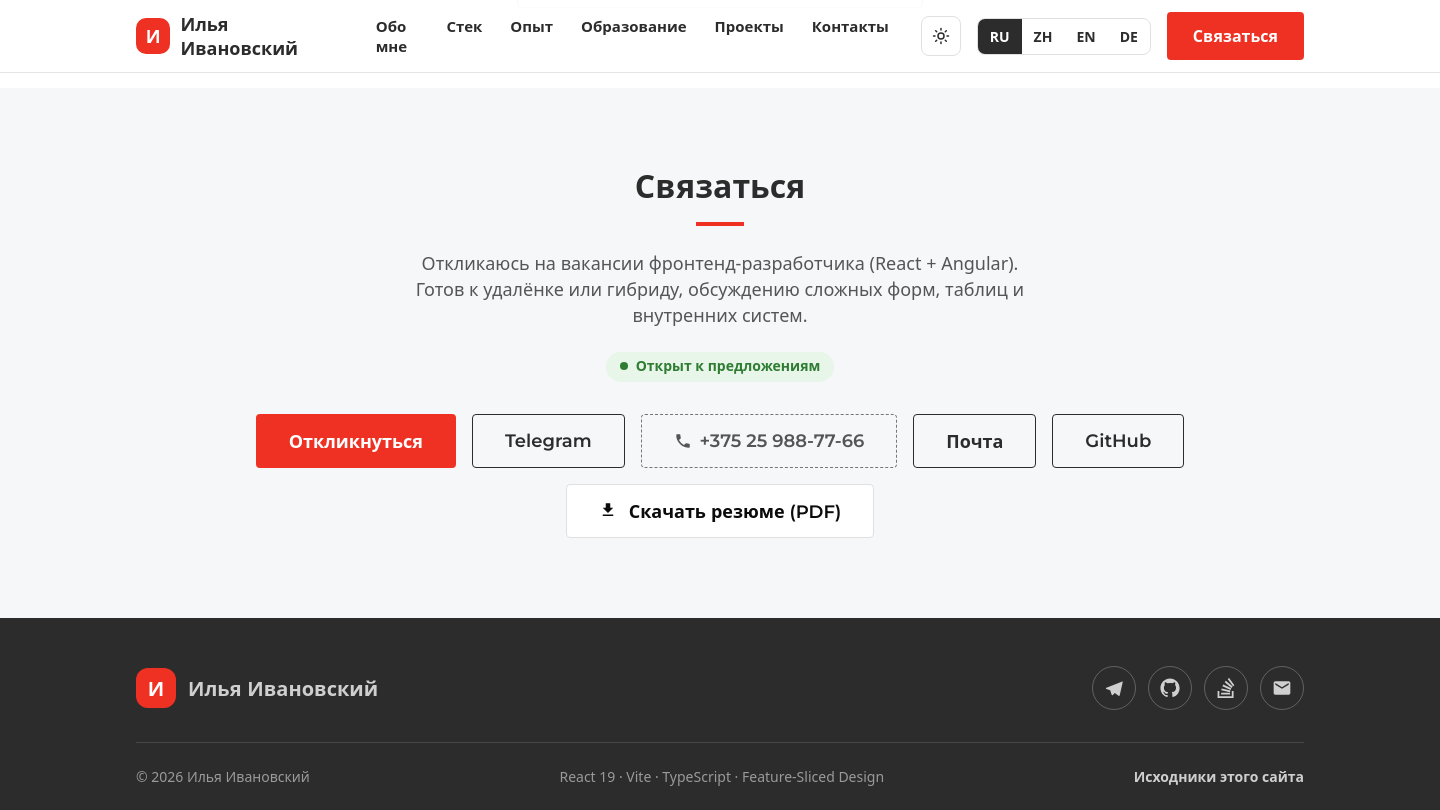
Test: HomePage › opens respond form modal with validation
The image size is (1440, 810).
(page scrolled)
Click the button "Откликнуться".
click(356, 441)  # box [256,414,456,468]
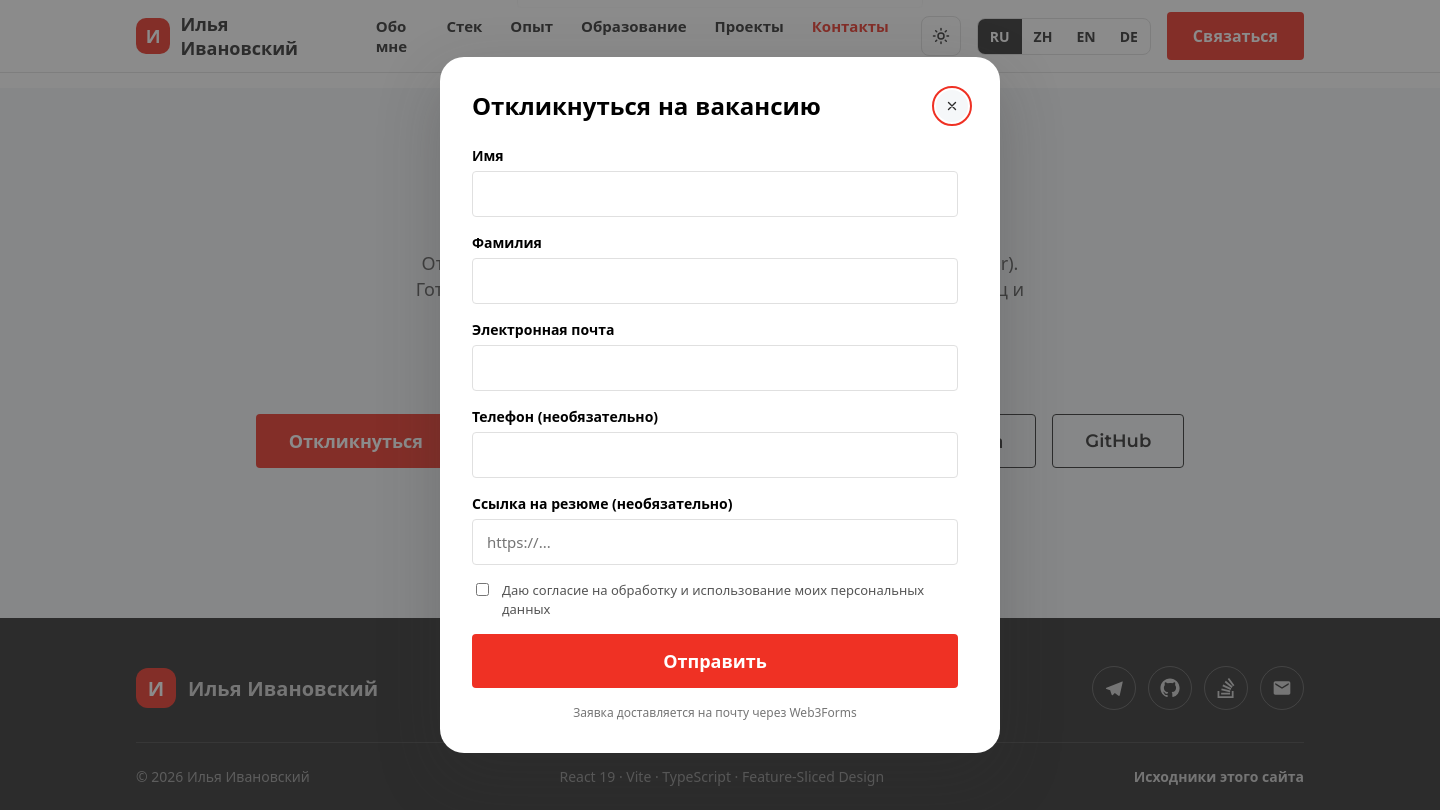
Check: the dialog is shown, box [440,57,1000,753]
Check: the field labelled "Имя" is shown, box [472,171,958,217]
Click the button "Отправить".
click(715, 661)  # box [472,634,958,688]
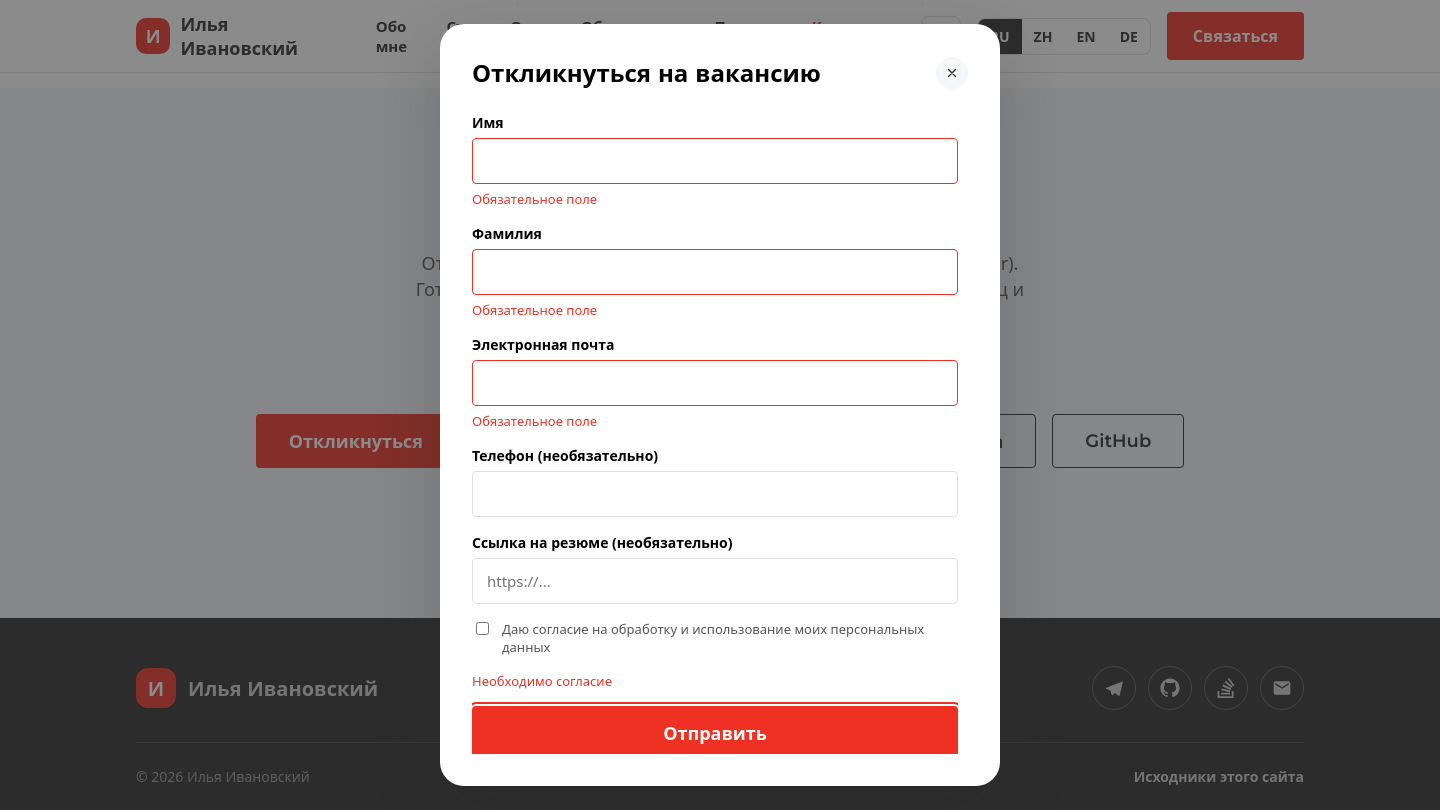
Click the button named "Close".
click(952, 72)  # box [936,56,968,88]
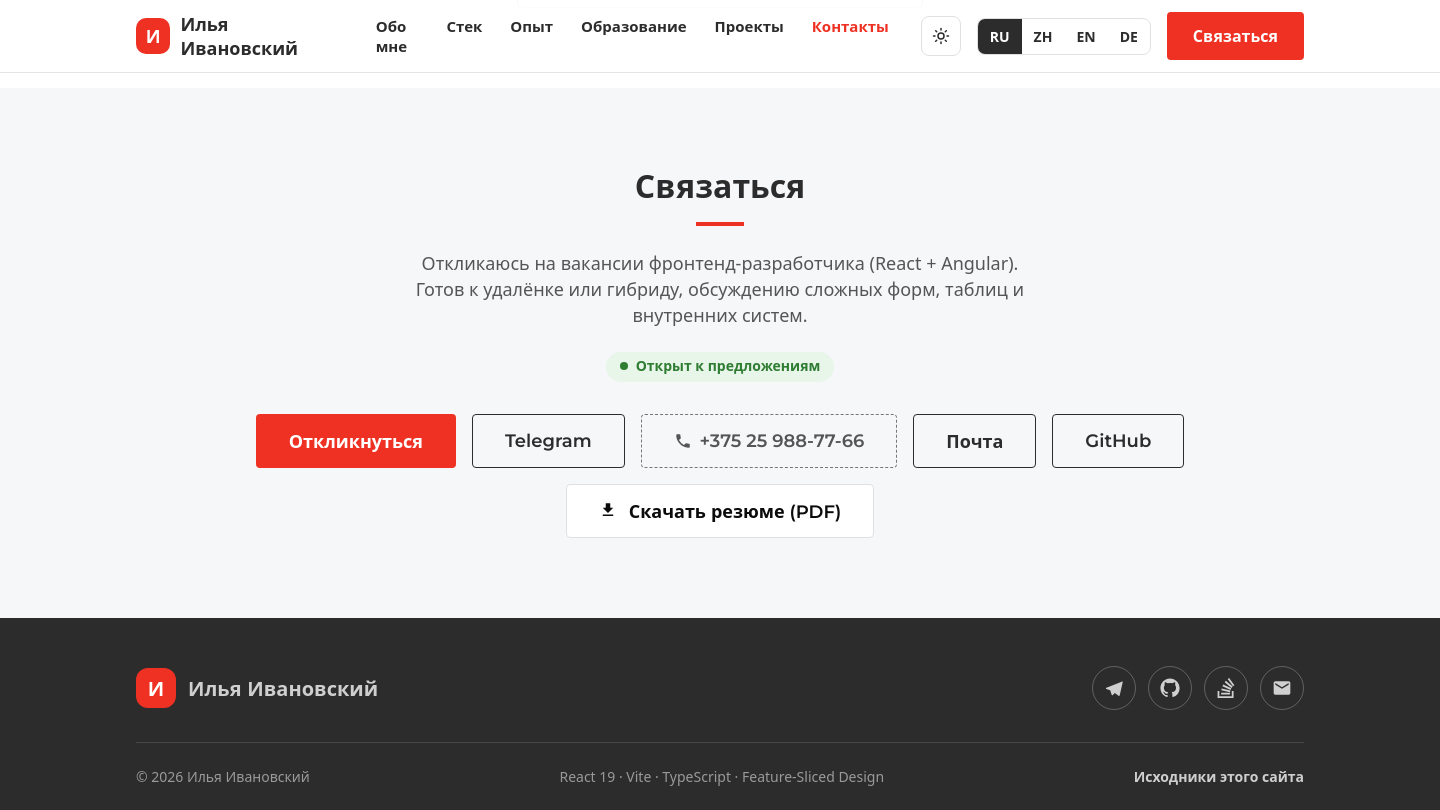
Check: the dialog is gone
